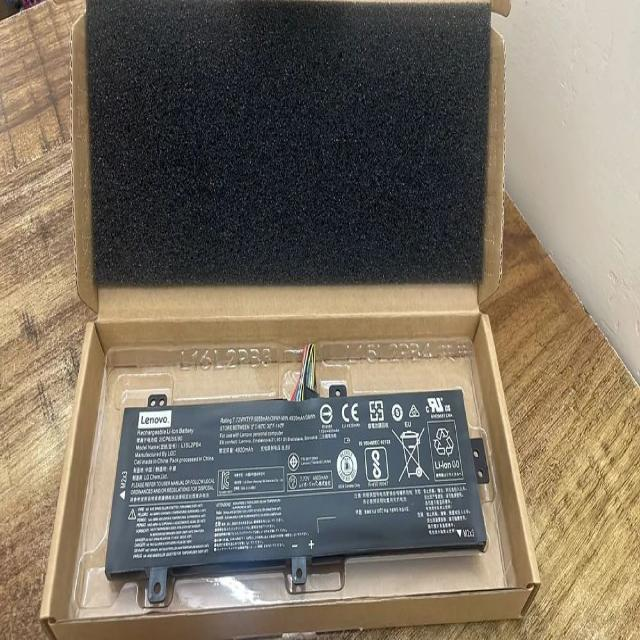electronic: (95, 376, 510, 607)
